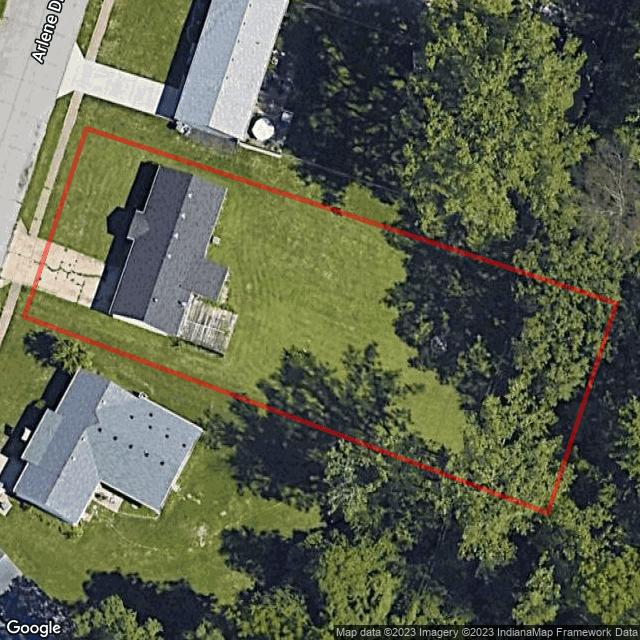Driveway: (36, 243, 123, 314)
Extra Driveway: (0, 214, 48, 289)
Extra Lawn: (19, 115, 65, 234), (38, 124, 84, 240), (13, 285, 31, 318), (0, 283, 11, 311)
Extra Sidewalk: (28, 121, 74, 237), (3, 282, 21, 314)
House: (108, 168, 226, 338)
Other: (176, 295, 238, 357), (211, 236, 221, 244)
